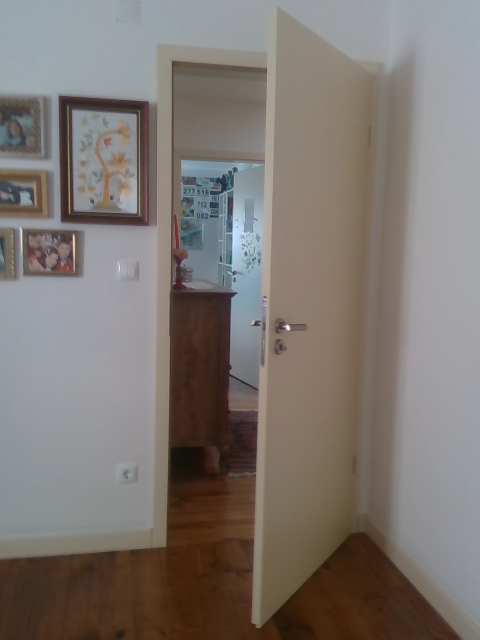semi: (150, 11, 385, 623)
